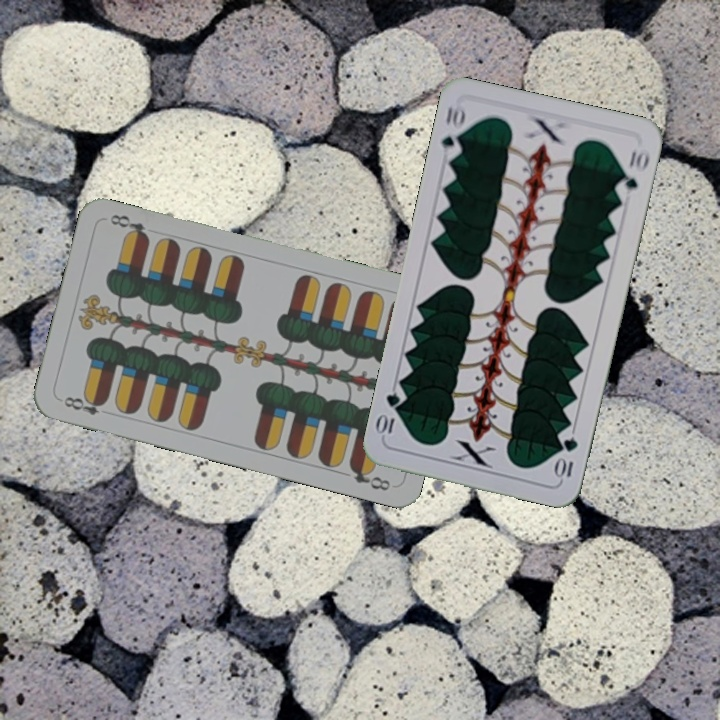E8: (56, 391, 109, 418)
G10: (437, 101, 468, 161), (552, 433, 581, 482)
